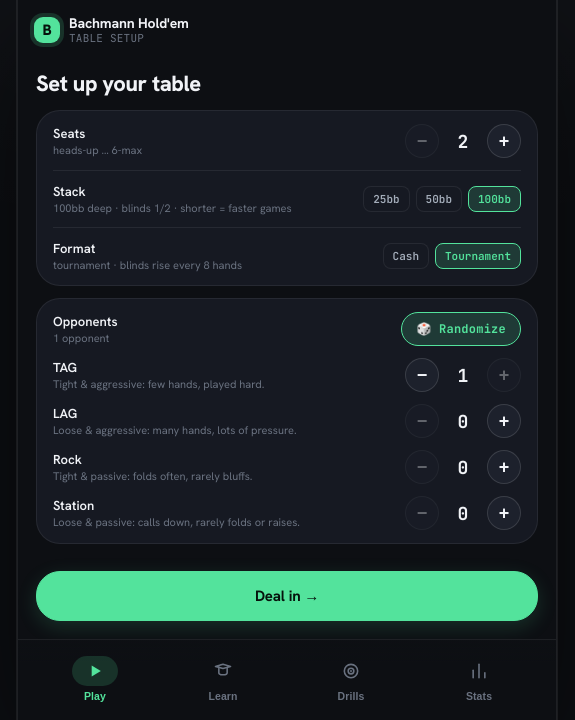
Test case: App — durable lesson progress › reopens a fully-completed primer to the path for review, not the forced hand-off
Click the button with test id "tab-learn": (223, 678) [160,648,286,708]
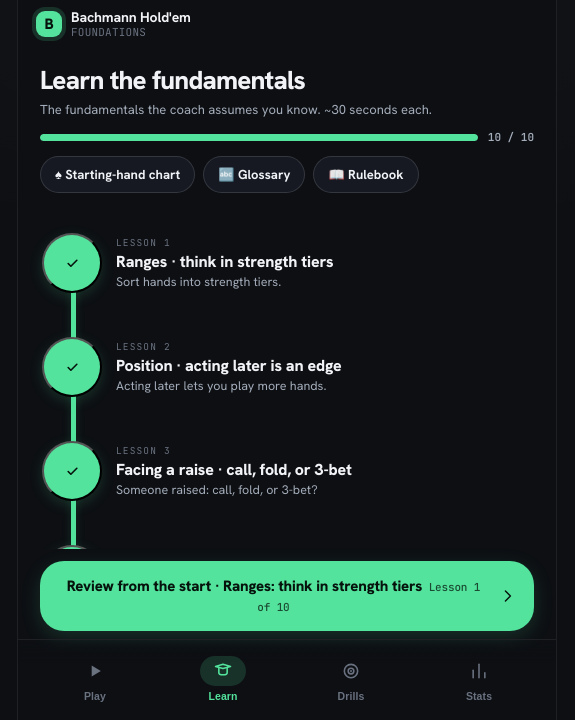
Now the button with test id "resume-cta" shows "Review from the start", box [40,561,534,631]
